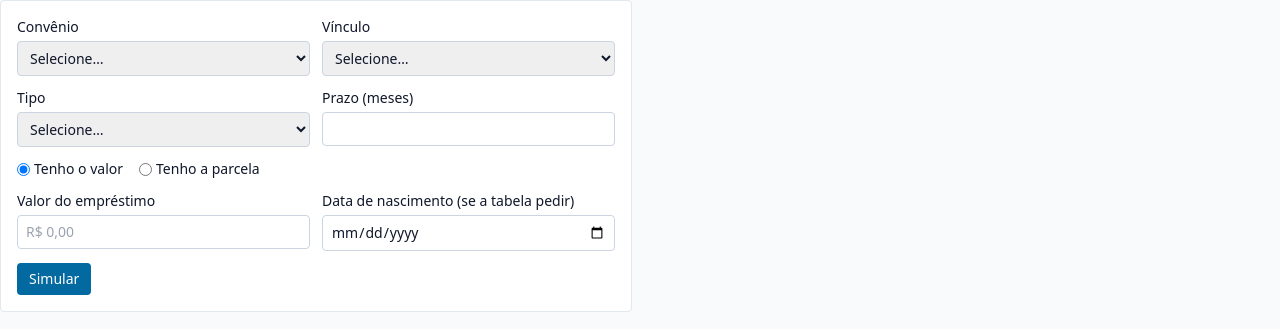
Test case: SimuladorForm › envia valor "1.234,56" como "1234.56"
Step 1. Select "Governo do Acre" in the dropdown labelled "Convênio" → x=164, y=58, box left=17, top=41, right=310, bottom=76
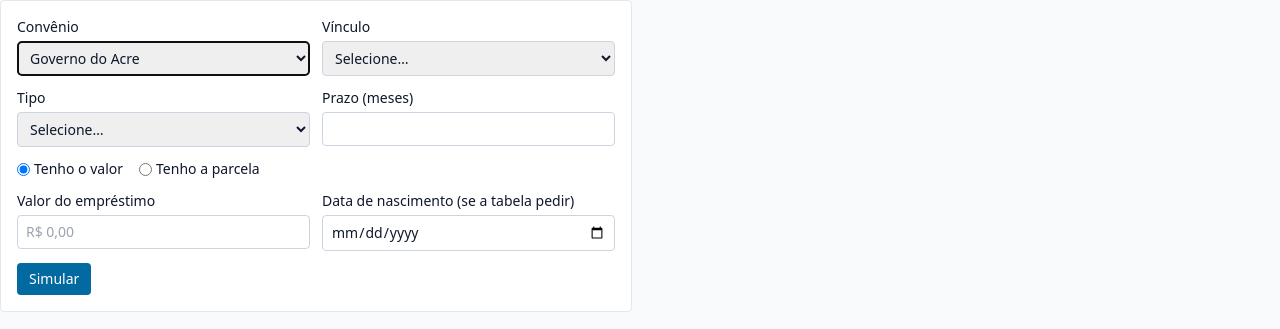
Step 2. Select "Efetivo" in the dropdown labelled "Vínculo" → x=468, y=58, box left=322, top=41, right=615, bottom=76
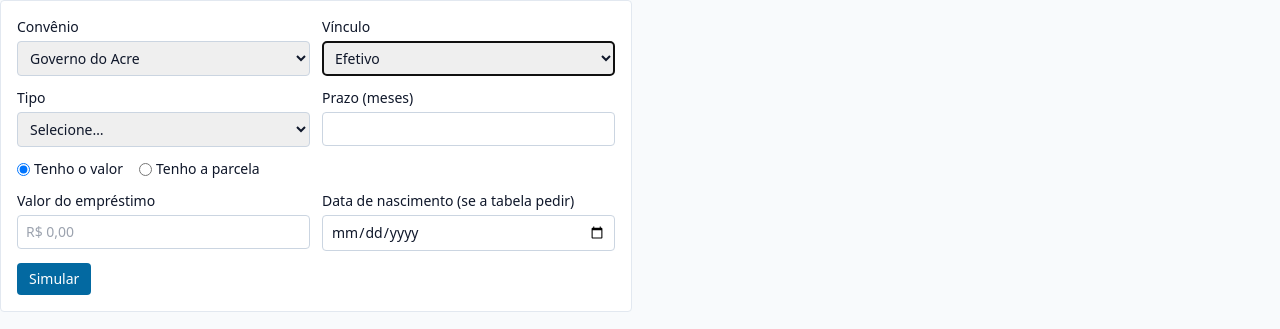
Step 3. Select "Novo" in the dropdown labelled "Tipo" → x=164, y=130, box left=17, top=112, right=310, bottom=147
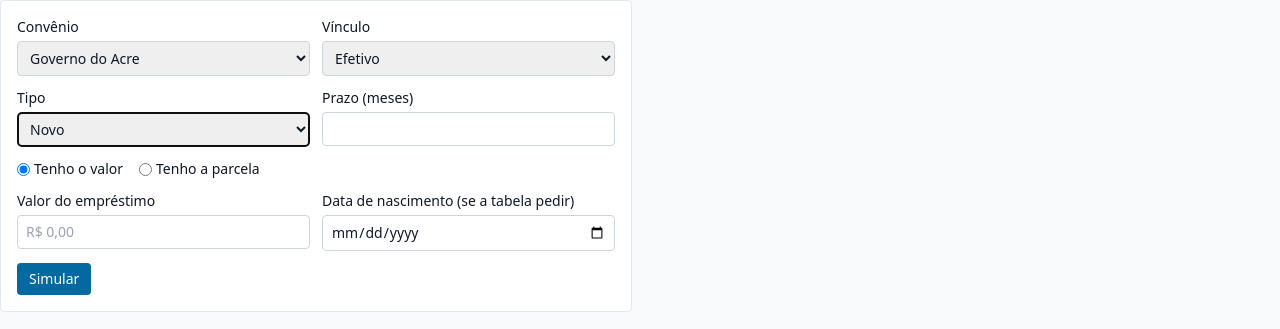
Step 4. Type "24" into the field labelled "Prazo (meses)" → x=468, y=129, box left=322, top=112, right=615, bottom=146
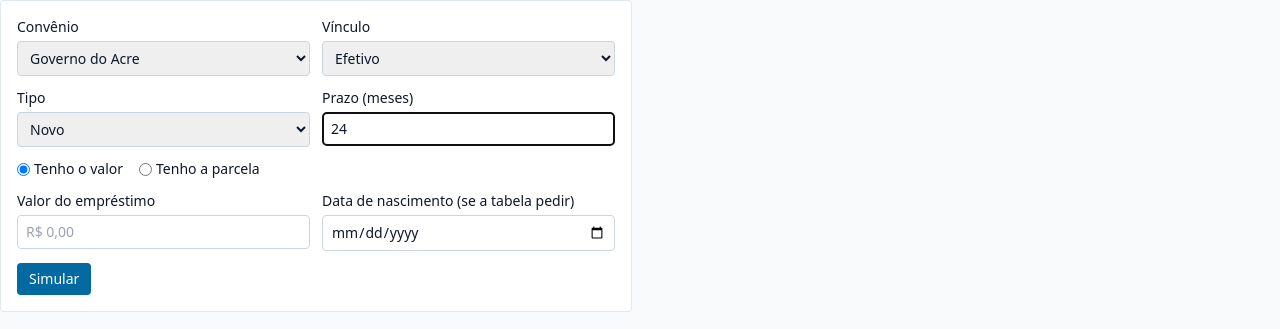
Step 5. Type "1.234,56" into the field labelled "Valor do empréstimo" → x=164, y=232, box left=17, top=215, right=310, bottom=249
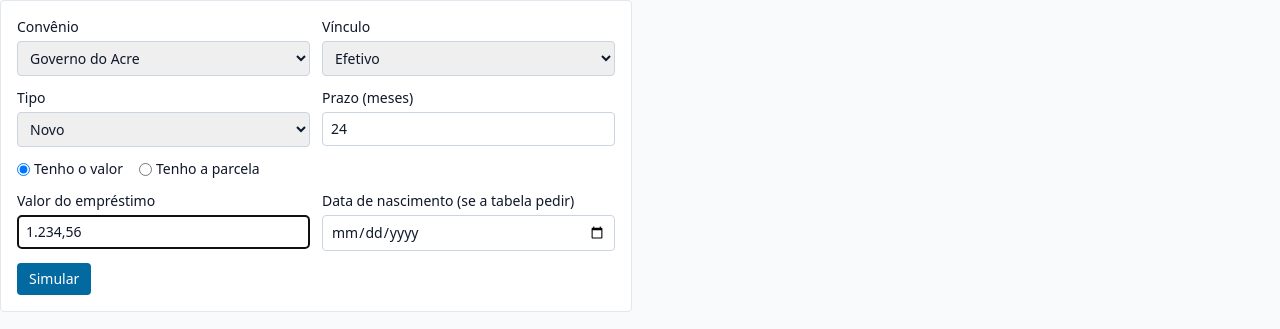
Step 6. Click the button "Simular" → x=54, y=279, box left=17, top=263, right=91, bottom=295
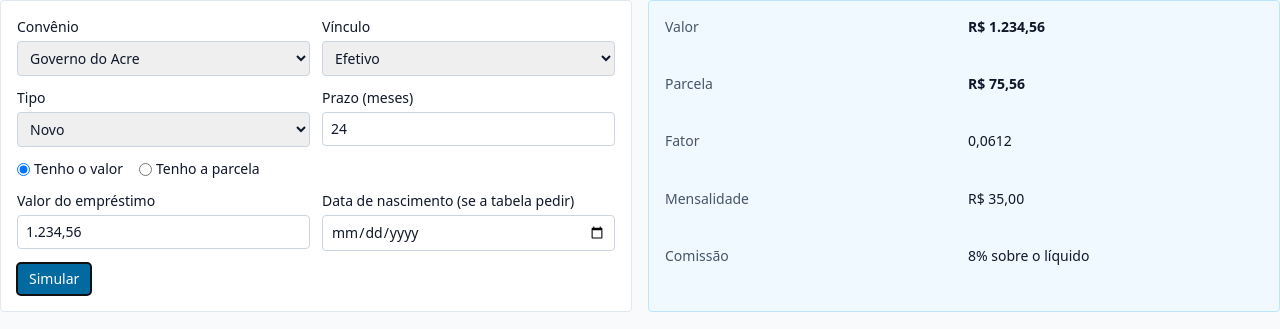
Expected: the text "R$ 75,56" is shown, left=968, top=74, right=1025, bottom=93
